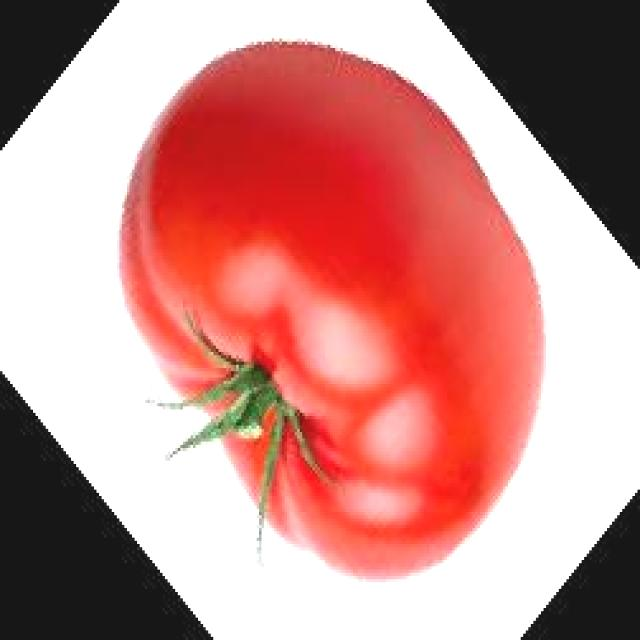tomato: (112, 31, 549, 587)
